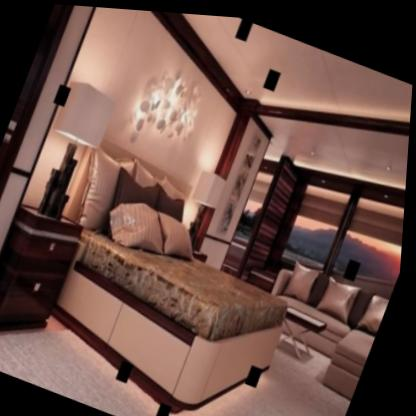Bed: (9, 132, 333, 416)
Carpet: (0, 317, 164, 416), (174, 346, 355, 416)
Lamp: (15, 62, 124, 228), (171, 159, 239, 256)
Nightstand: (0, 191, 96, 351)
Sofa: (268, 258, 394, 392)
